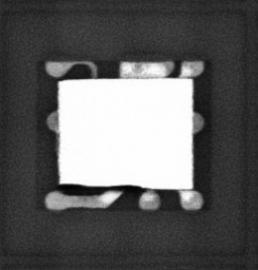DIE_BROKEN: (57, 181, 153, 191)
